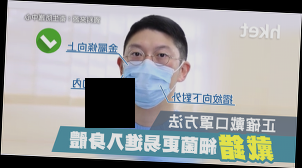with_mask: (123, 41, 180, 108)
